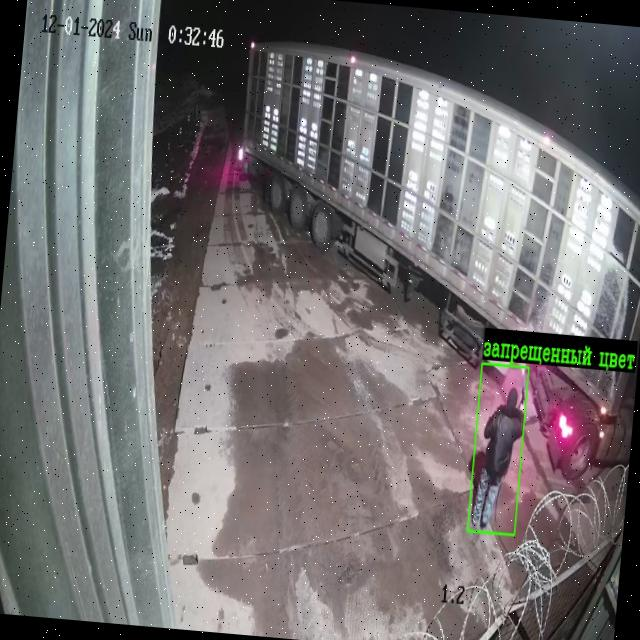Person: (471, 387, 523, 528)
